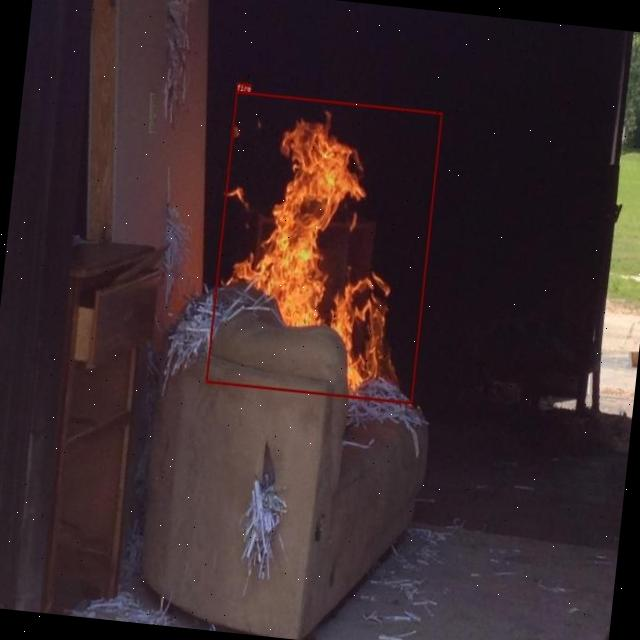fire: (204, 90, 442, 404)
